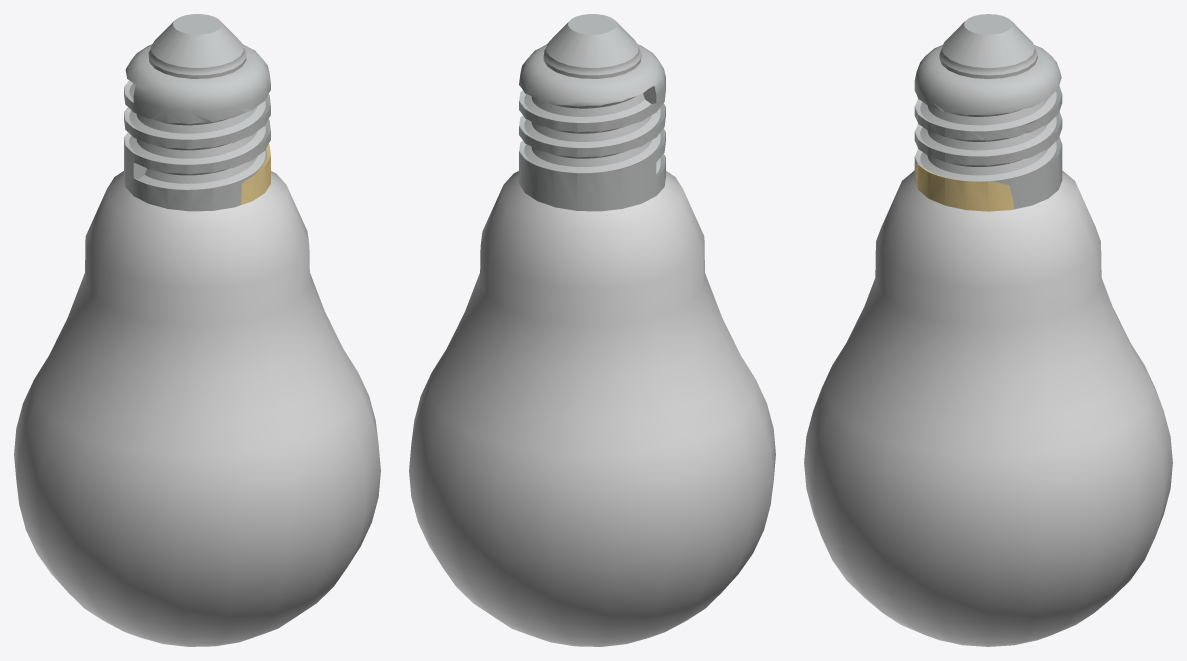
Rendered from lampada.fbx.
The picture shows the model from 3 angles, left to right: view 1: azimuth 30°, elevation 25°; view 2: azimuth 150°, elevation 25°; view 3: azimuth 270°, elevation 25°; orthographic projection.
Parts seen in each view (by area): view 1: bolbilla; view 2: bolbilla; view 3: bolbilla.
Part boxes in pixels (x1,y1,x2,y2): bolbilla: (14,14,380,646); bolbilla: (409,14,775,646); bolbilla: (804,14,1172,646).
Bounding box in the file's own units: 15.62 × 28.29 × 15.62.
